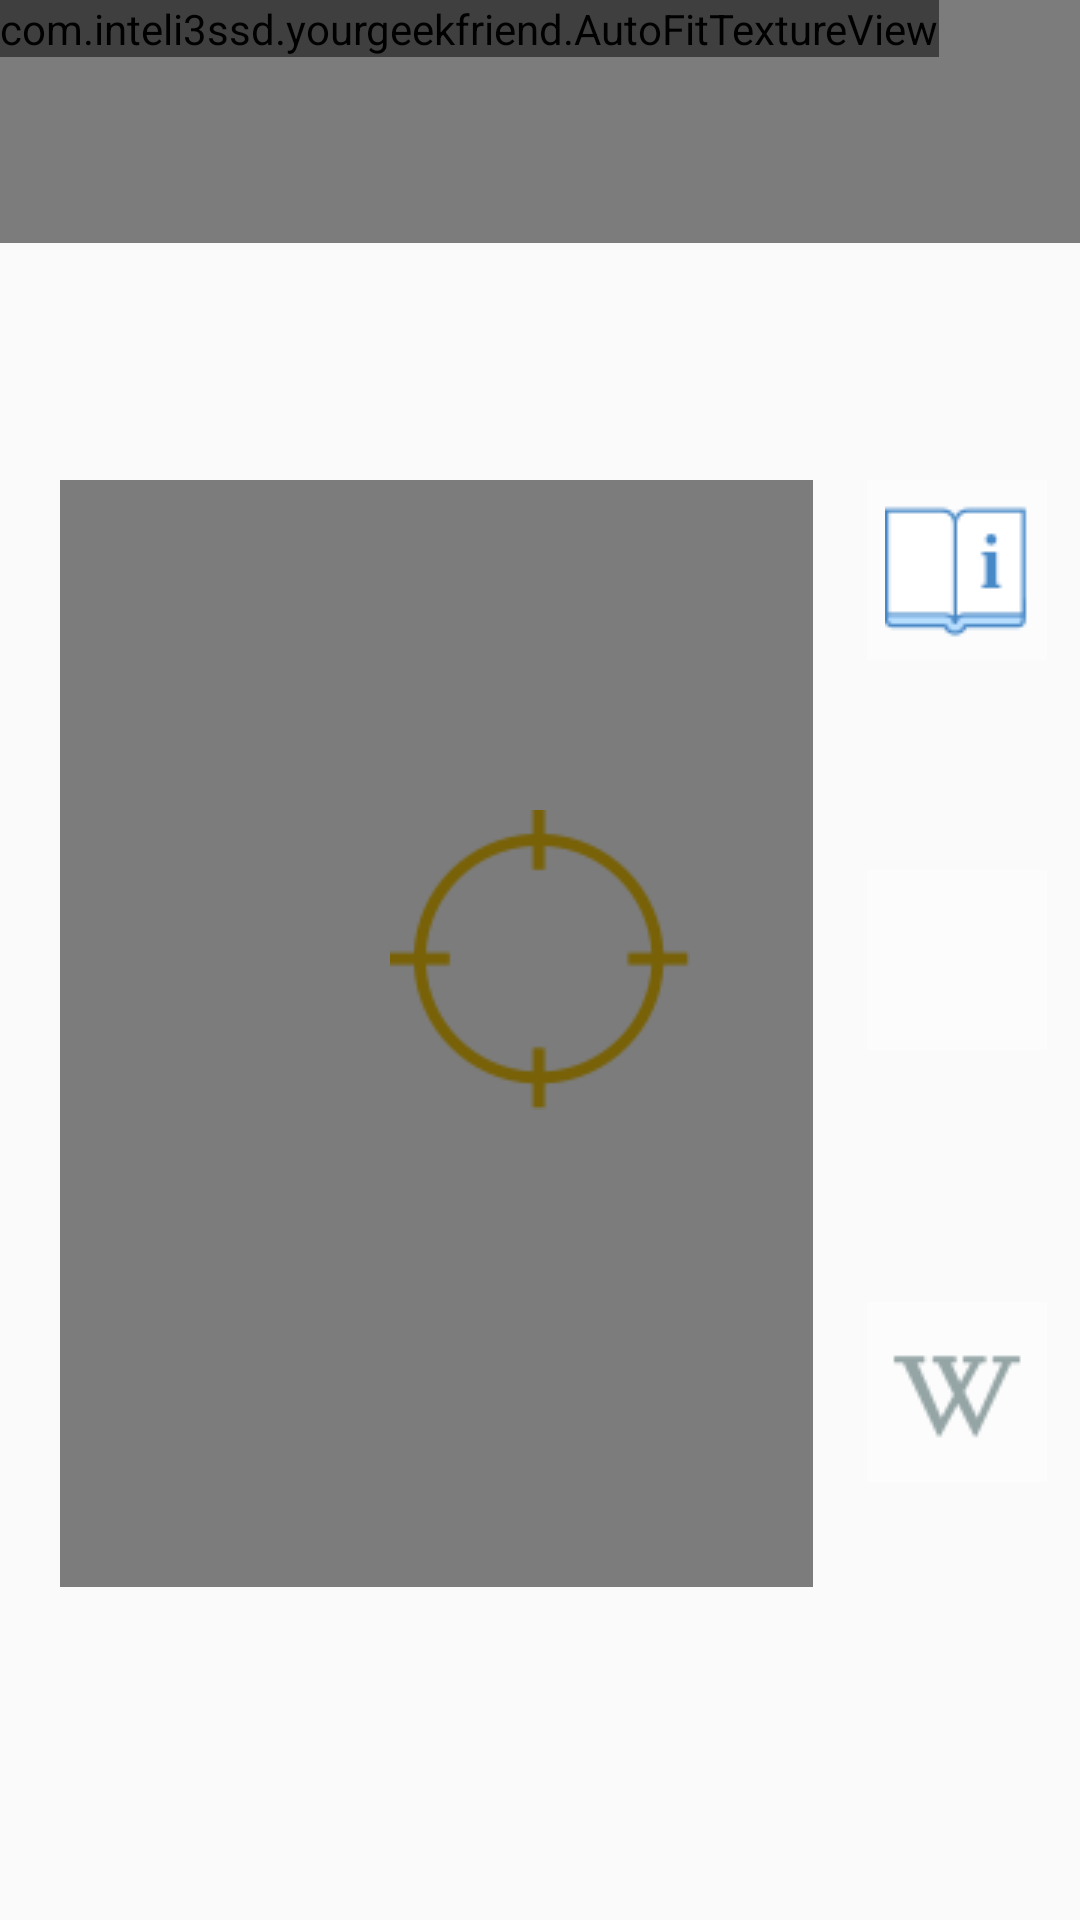

Icons on this 1080px x 1920px Android screen, each with the point to tap as (x=x, y=y):
descrizione: (x=956, y=571)
focus: (x=540, y=959)
